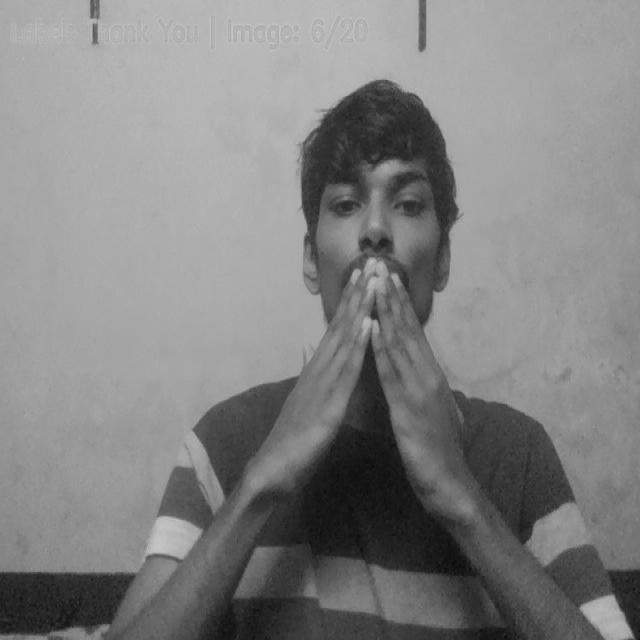Thank You: (263, 256, 467, 488)
